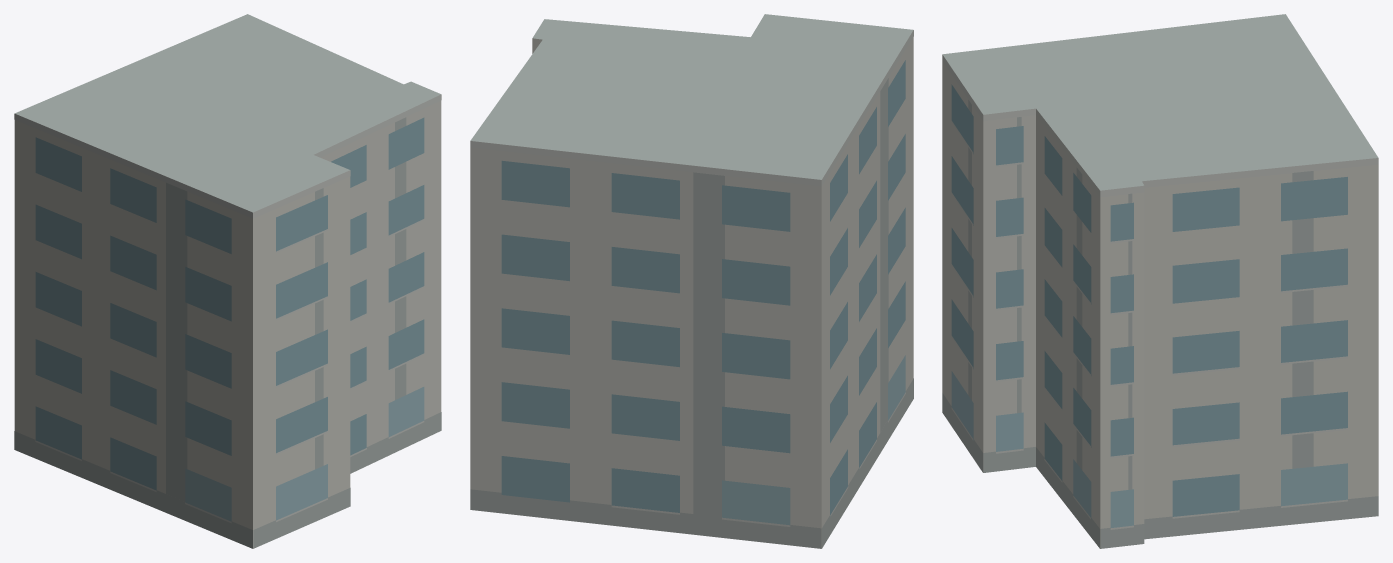
Rendered from survey-upis-32490140.glb.
3 renders of one model, left to right at view 1: azimuth 30°, elevation 25°; view 2: azimuth 150°, elevation 25°; view 3: azimuth 270°, elevation 25°, orthographic. The views are drawn at different scales.
Parts seen in each view (by area): view 1: survey-upis-32490140.tmp; view 2: survey-upis-32490140.tmp; view 3: survey-upis-32490140.tmp.
Part boxes in pixels (bbox=[...]): survey-upis-32490140.tmp: bbox=[14, 14, 441, 548]; survey-upis-32490140.tmp: bbox=[470, 14, 913, 548]; survey-upis-32490140.tmp: bbox=[942, 14, 1378, 548].
Bounding box in the file's own units: 14.08 × 13.3 × 14.69.
